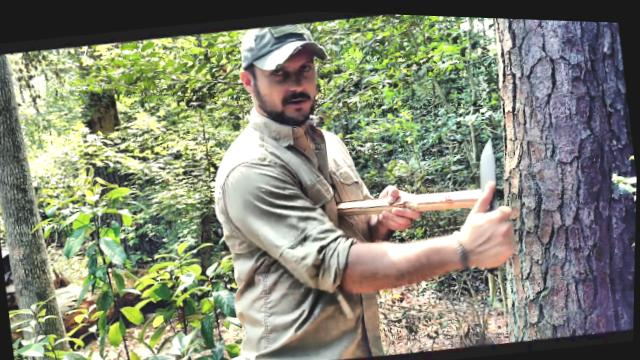knife: (464, 124, 523, 244)
